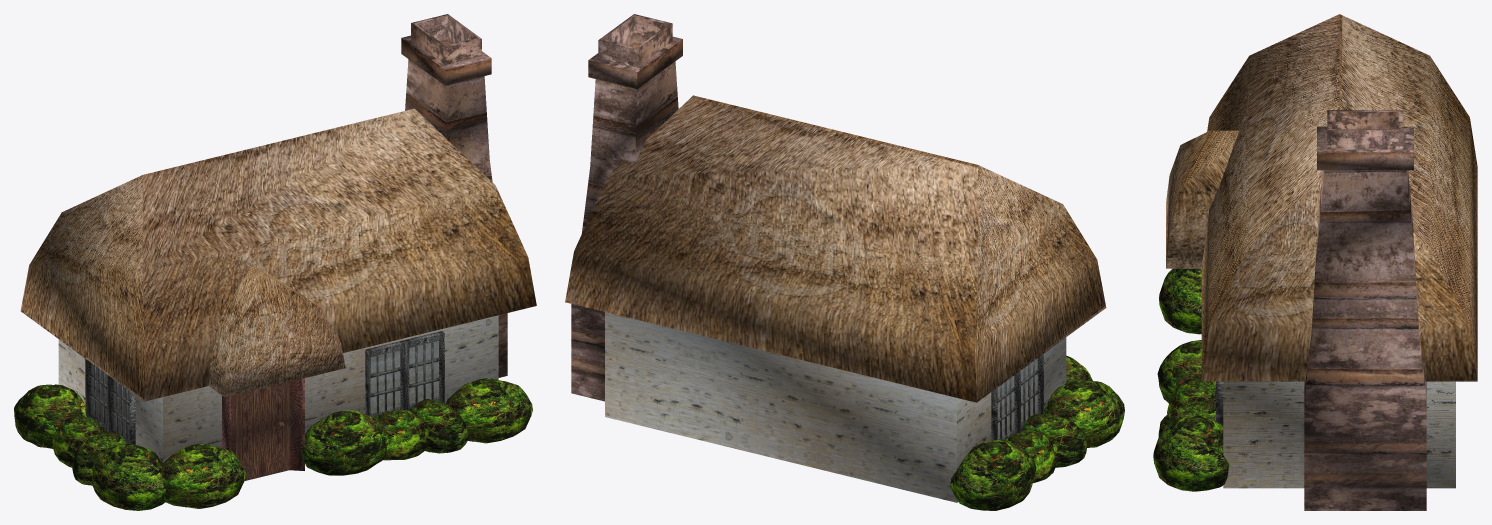
File: cottage.fbx
3 renders of one model, left to right at view 1: azimuth 30°, elevation 25°; view 2: azimuth 150°, elevation 25°; view 3: azimuth 270°, elevation 25°, orthographic. The views are drawn at different scales.
Visible parts, largest first — view 1: Mesh; view 2: Mesh; view 3: Mesh.
Part boxes in pixels (<box>): Mesh: <box>14,14,536,510</box>; Mesh: <box>565,14,1124,510</box>; Mesh: <box>1153,14,1477,510</box>.
Bounding box in the file's own units: 32.31 × 24.04 × 18.61.
